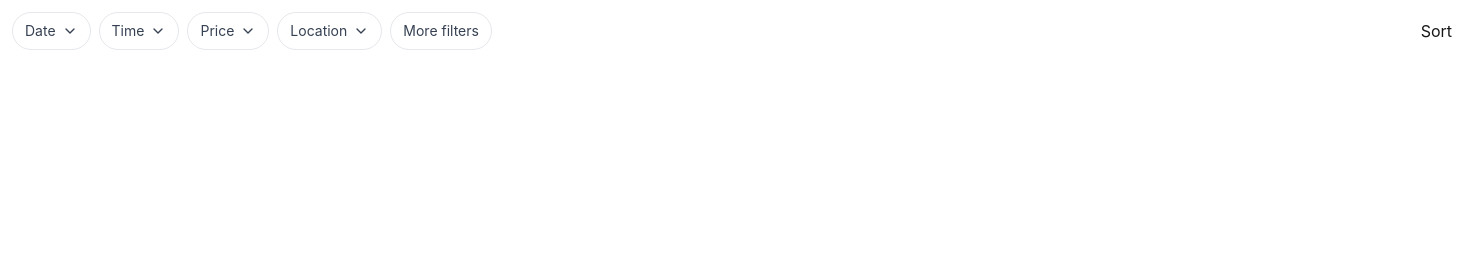
Scenario: FilterBar › closes an already-open dropdown when the same button is clicked again
# Open Date dropdown
What coordinates should you click on to do the following:
click the button "Date"
I would click on:
 (51, 31)
Its box is [12,12,91,50].
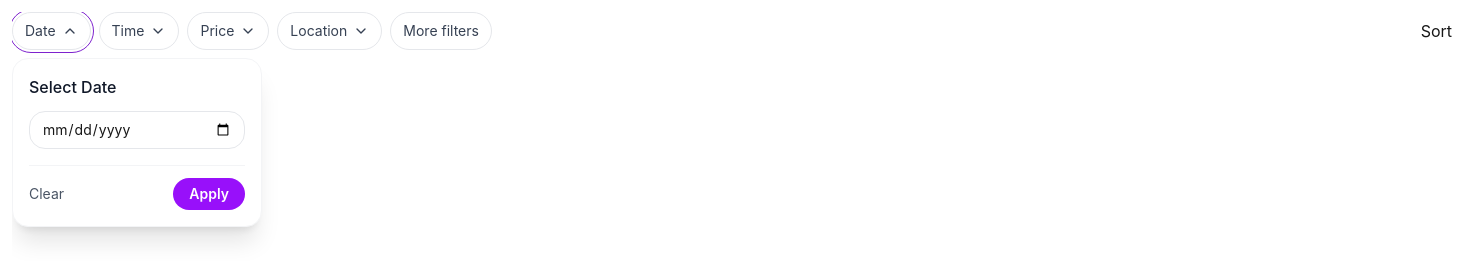
Check: the heading "Select Date" is shown, box [29,77,116,97]
What coordinates should you click on to do the following:
click the button "Date"
I would click on:
 (51, 31)
Its box is [12,12,91,50].
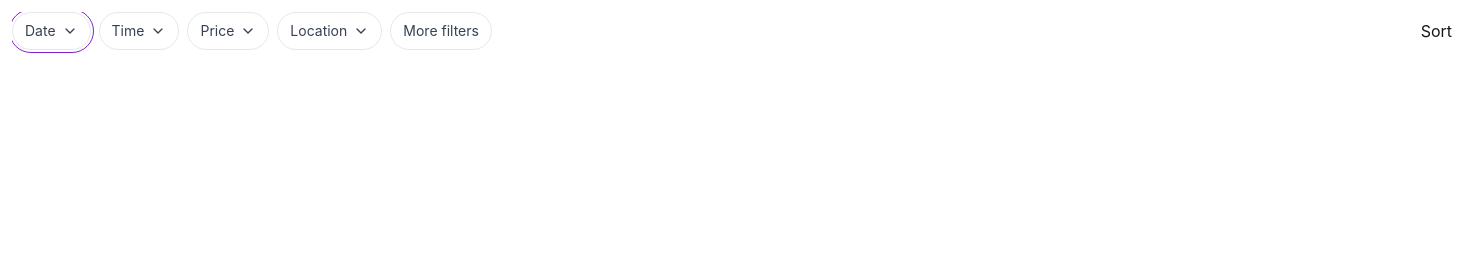
Check: the heading "Select Date" is gone
